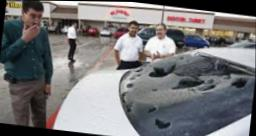Windshield: (121, 50, 254, 136)
